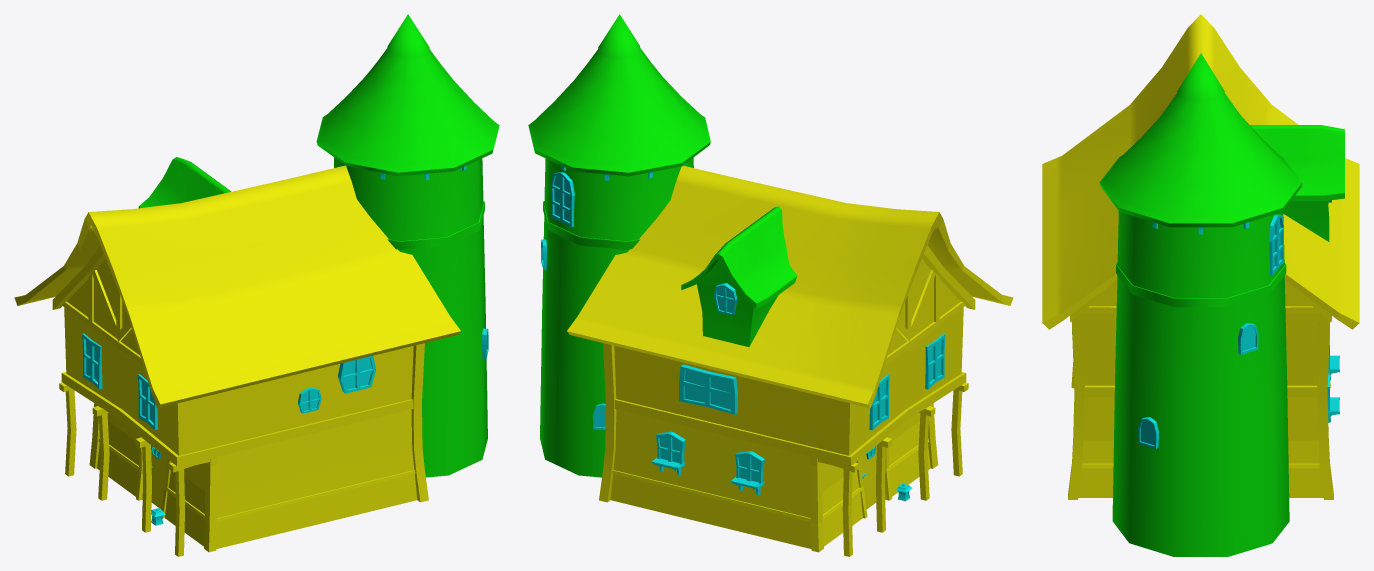
Rendered from house2.fbx.
3 views of the same model, side by side, from view 1: azimuth 30°, elevation 25°; view 2: azimuth 150°, elevation 25°; view 3: azimuth 270°, elevation 25° (orthographic). The views are drawn at different scales.
Parts seen in each view (by area): view 1: house2, house_mini1, tou1:polySurface64; view 2: house2, house_mini1, tou1:polySurface64; view 3: house_mini1, house2, tou1:polySurface64.
Part boxes in pixels (bbox=[...]): house2: bbox=[14, 166, 460, 556]; house_mini1: bbox=[138, 14, 499, 477]; tou1:polySurface64: bbox=[82, 163, 488, 525]; house2: bbox=[567, 166, 1013, 556]; house_mini1: bbox=[528, 14, 797, 477]; tou1:polySurface64: bbox=[541, 164, 945, 501]; house_mini1: bbox=[1099, 53, 1344, 556]; house2: bbox=[1042, 14, 1359, 499]; tou1:polySurface64: bbox=[1072, 200, 1339, 448].
Bounding box in the file's own units: 1108 × 1148 × 705.
